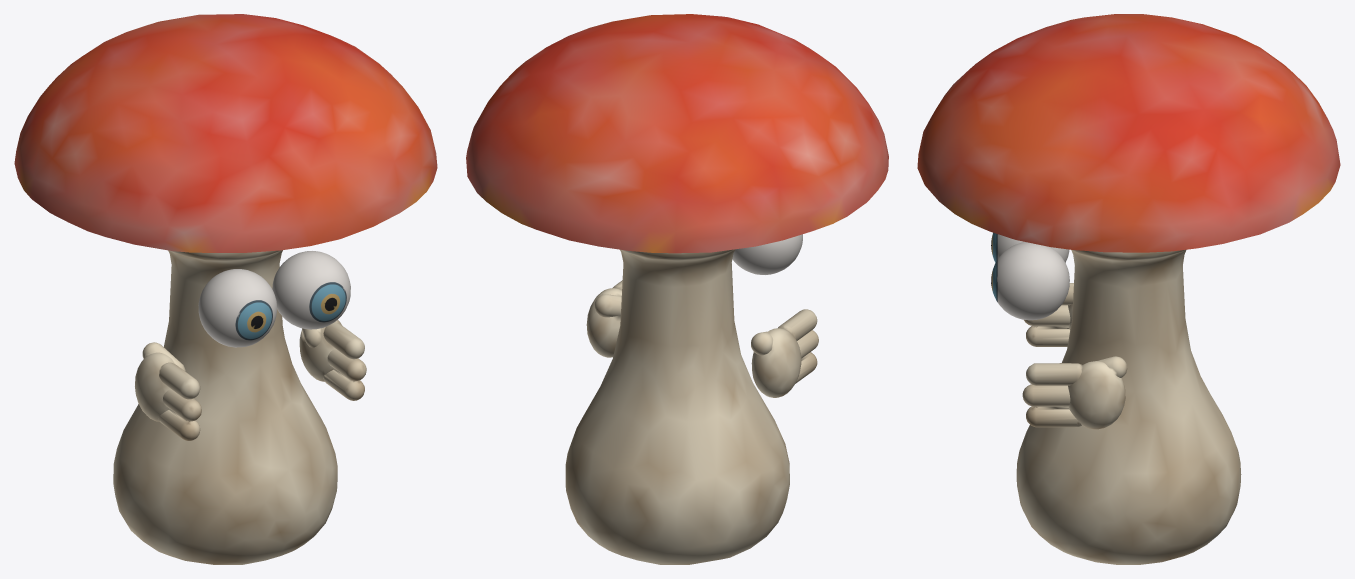
File: amanita-scout_fast.glb
3 views of the same model, side by side, from view 1: azimuth 30°, elevation 25°; view 2: azimuth 150°, elevation 25°; view 3: azimuth 270°, elevation 25° (orthographic).
Visible parts, largest first — view 1: body, eye, hand; view 2: body, hand, eye; view 3: body, hand, eye.
Part boxes in pixels (x1,y1,x2,y2): body: (14,14,437,564); eye: (198,251,350,347); hand: (135,320,366,440); body: (466,14,888,564); hand: (586,280,818,397); eye: (732,234,802,274); body: (917,14,1340,564); hand: (1022,283,1127,429); eye: (991,232,1069,320).
Size of the model in its own units: 1.29 by 1.68 by 1.29.
